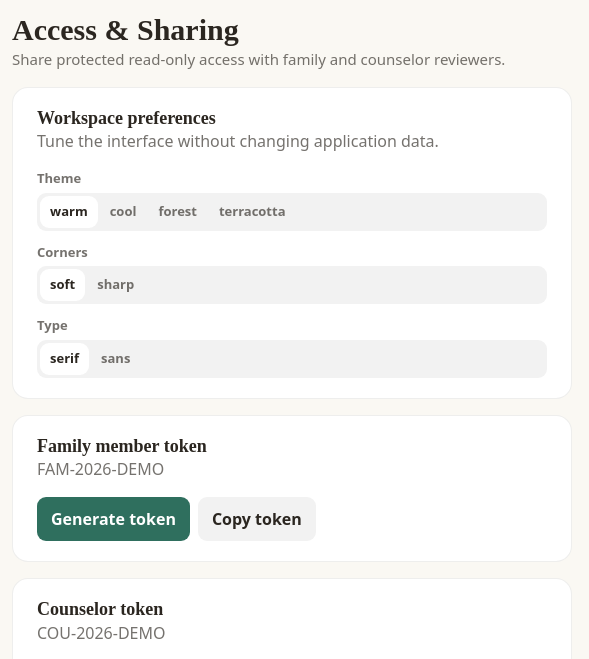
Test: confirms when a shared token is copied
The width and height of the screenshot is (589, 659).
Click the button "Copy token" below "FAM-2026-DEMO" at (257, 519), box [198, 497, 316, 541]
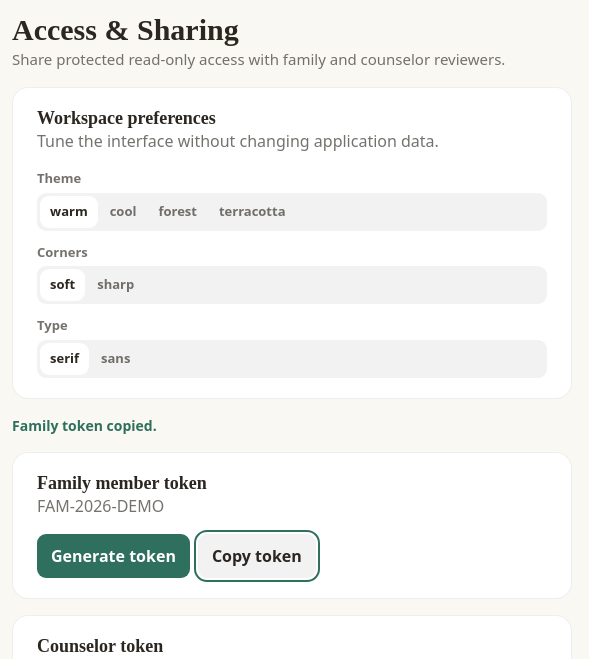
Check: the text "Family token copied." is shown, box [12, 416, 157, 435]
